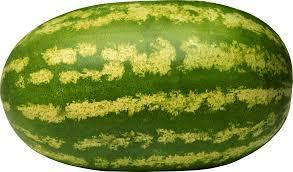non-mango: (0, 0, 292, 171)
